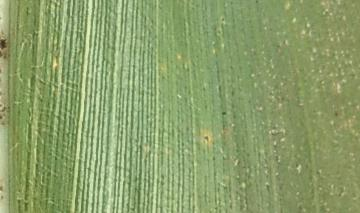tarspot: (1, 37, 8, 51), (202, 133, 208, 144), (220, 110, 226, 117), (1, 184, 5, 193), (1, 50, 4, 59), (333, 110, 338, 115), (254, 1, 260, 5), (1, 101, 4, 108), (1, 114, 3, 121)
